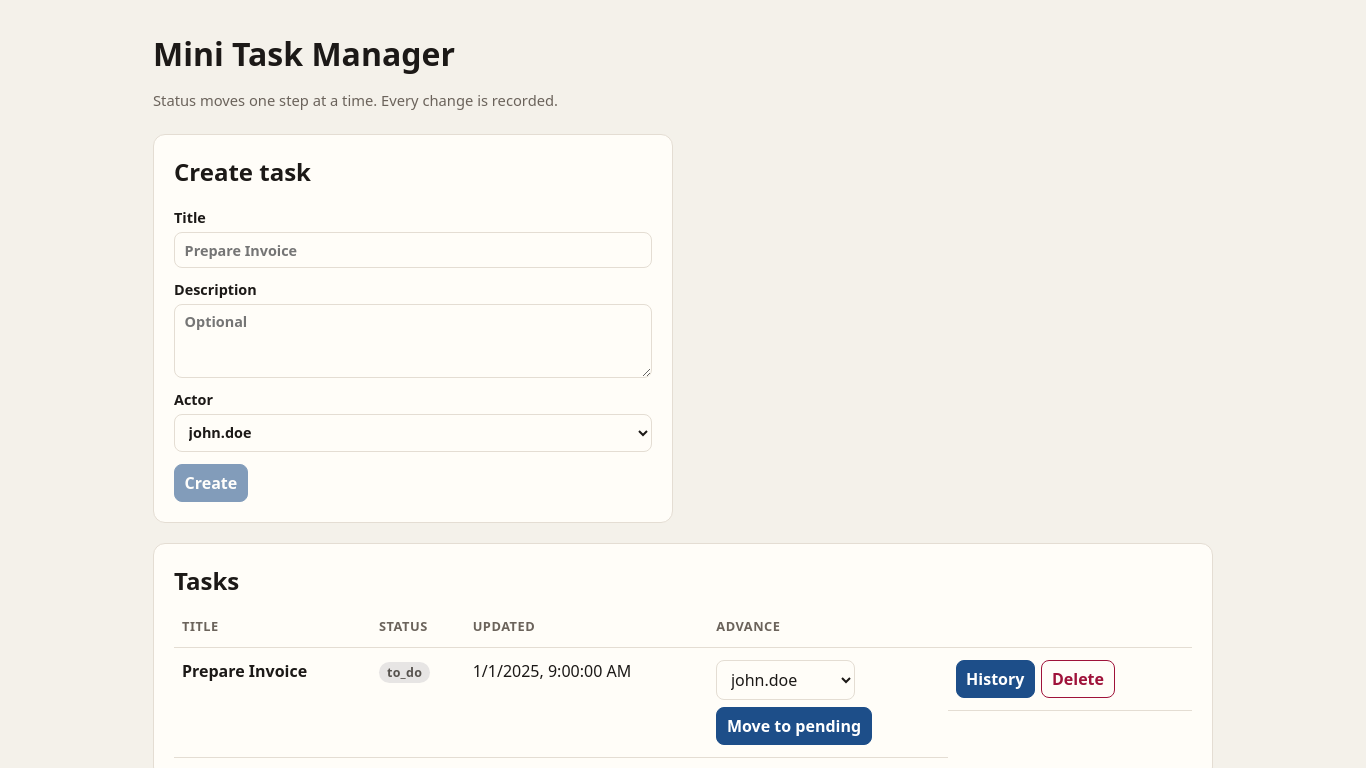
App › lists tasks, creates, advances status, and opens history
This screenshot has width=1366, height=768.
Expected: the text "Prepare Invoice" is shown, [182,660,307,682]
Expected: the text "to_do" is shown, [379,662,430,683]
Type "Second task" into the field with placeholder "Prepare Invoice" at (413, 250), box [174,232,652,268]
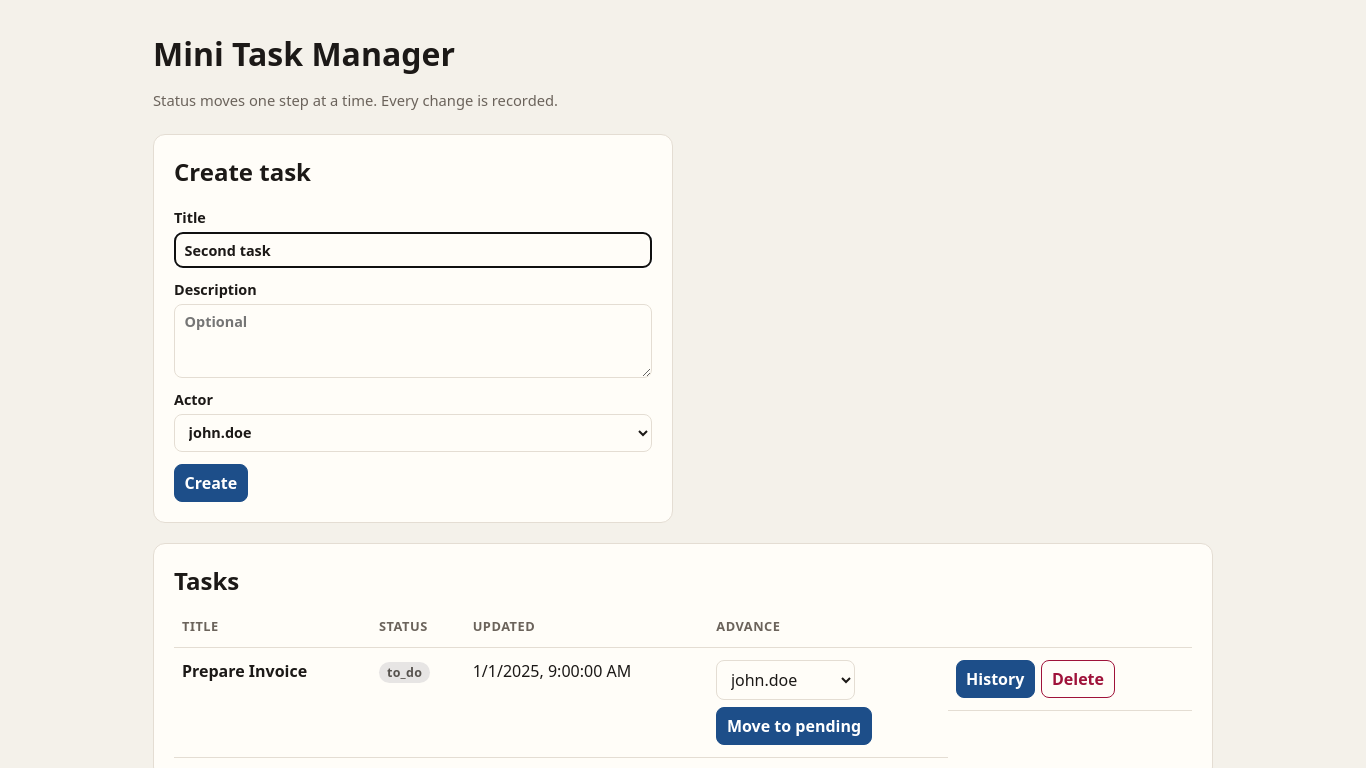
Click the button "Create" at (211, 483), box [174,464,248,502]
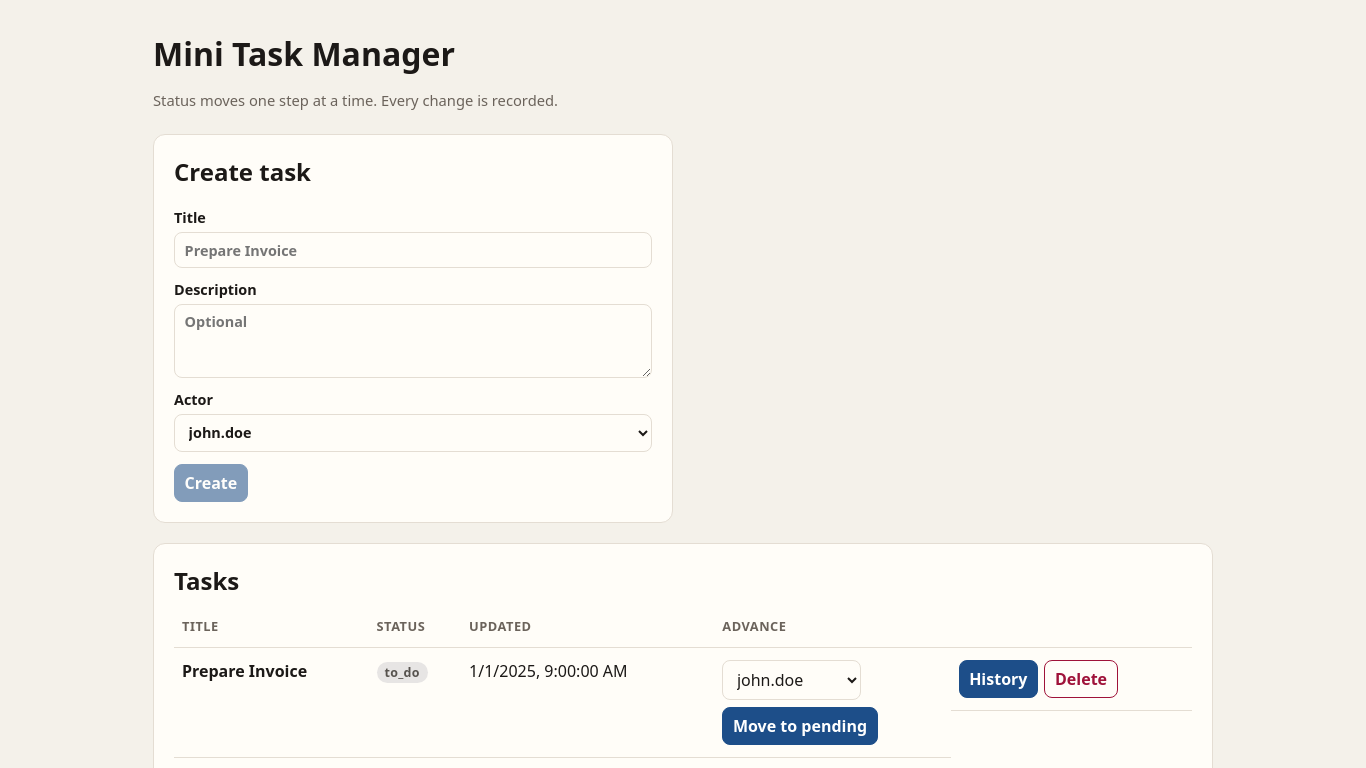
Click the button "Move to pending" at (800, 726), box [722,707,878,745]
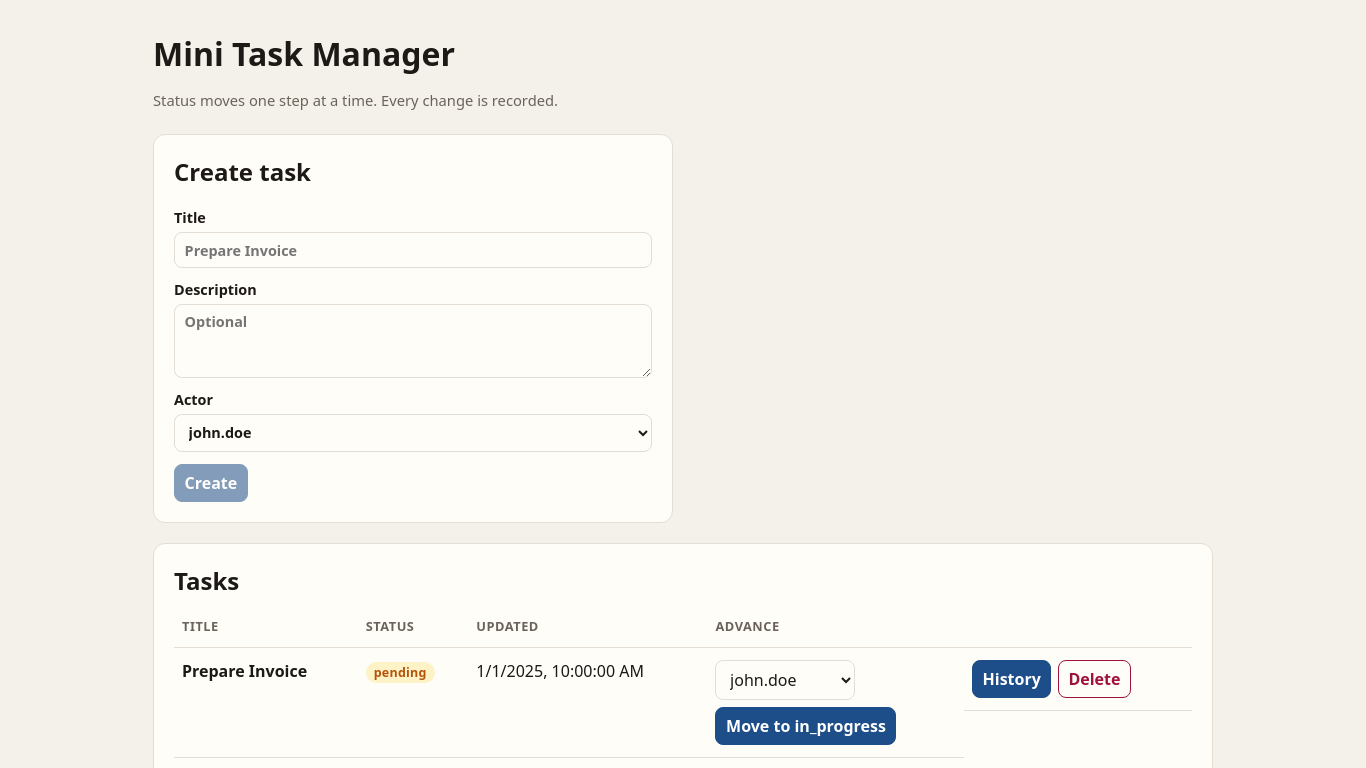
Now the text "pending" is shown, box [366,662,435,683]
Click the button "History" at (1012, 679), box [972,660,1052,698]
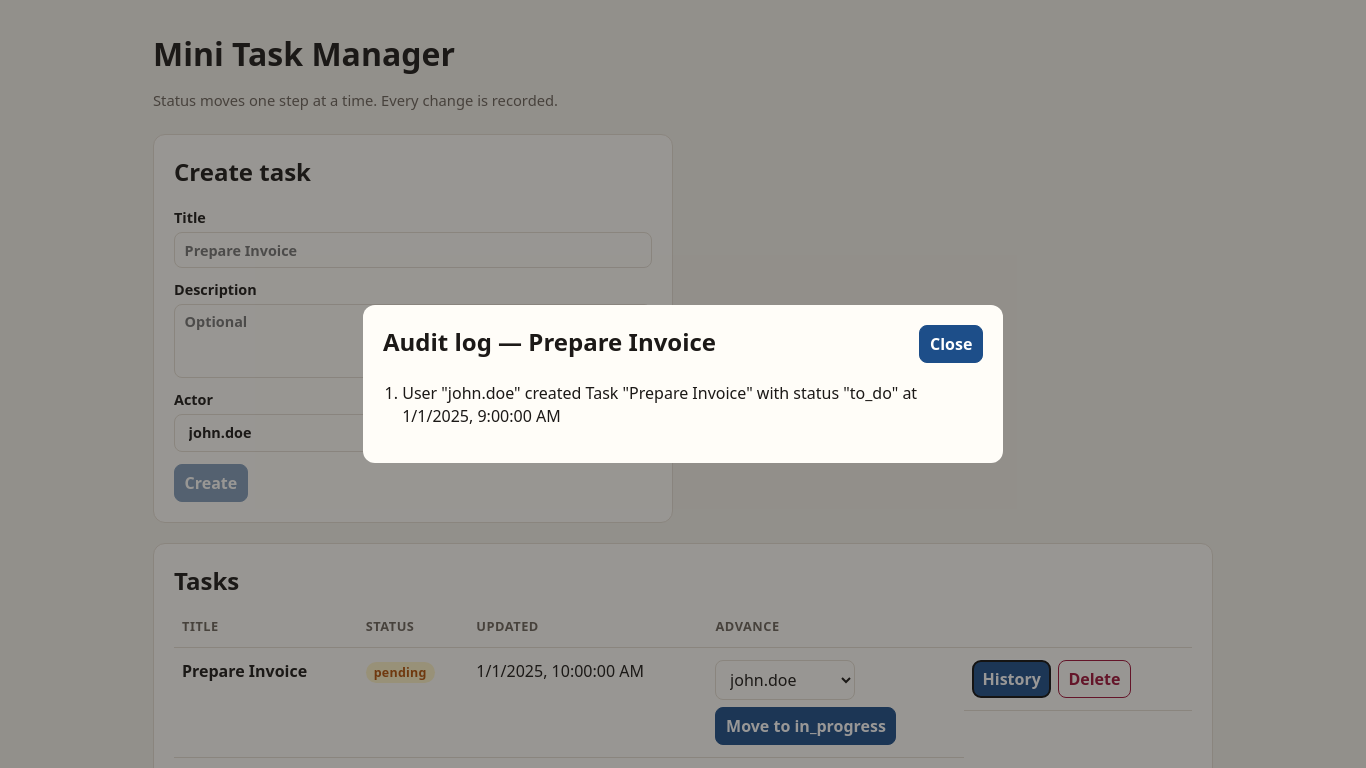
Now the dialog is shown, box [363,305,1003,463]
Now the list item "User \"john.doe\" created Task \"Prepare Invoice\"" is shown, box [402,382,917,426]
